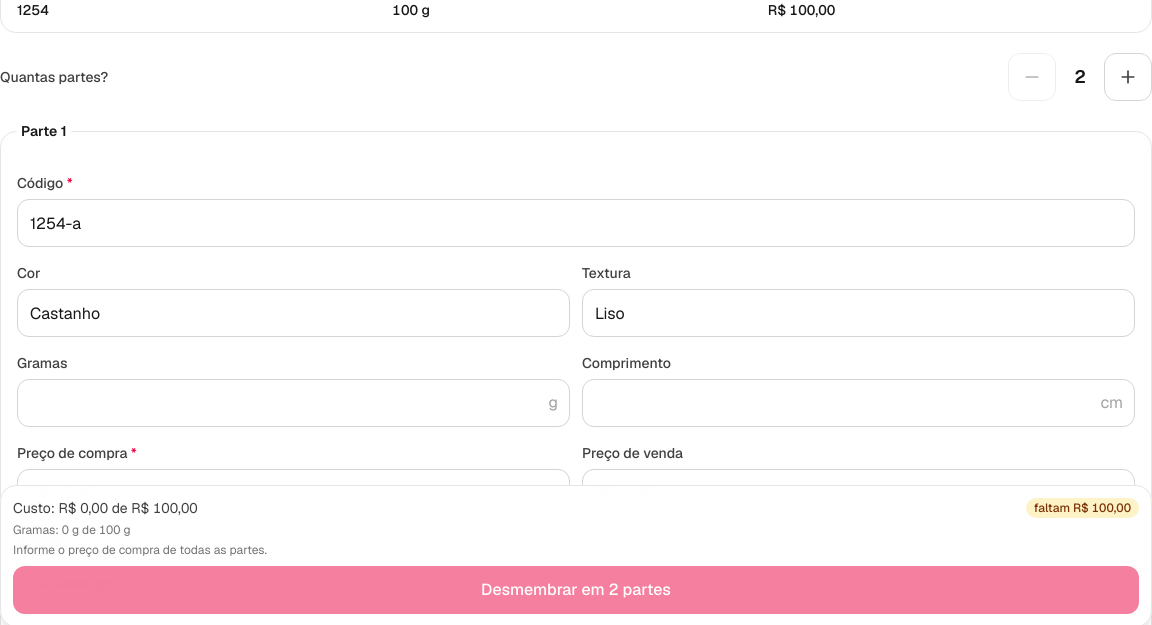
Test: FormularioDesmembrar › soma as gramas só para informar
In the field labelled "Gramas": point(294, 403) 17,379 -> 570,427, type "60"
(page scrolled)
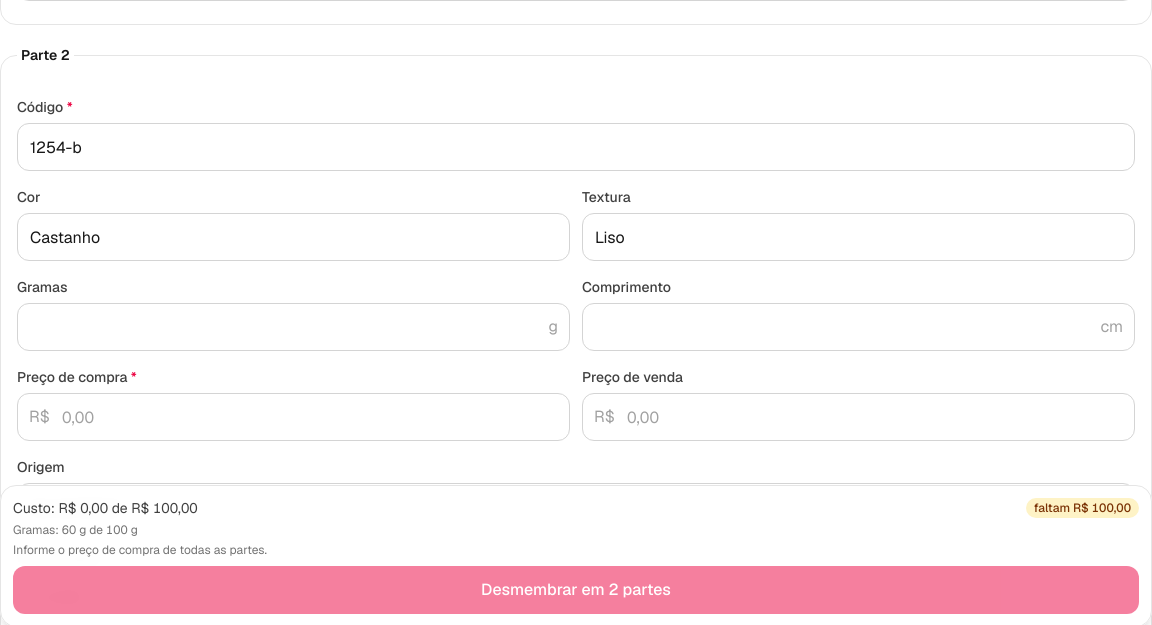
In the field labelled "Gramas": point(294, 327) 17,303 -> 570,351, type "30,5"
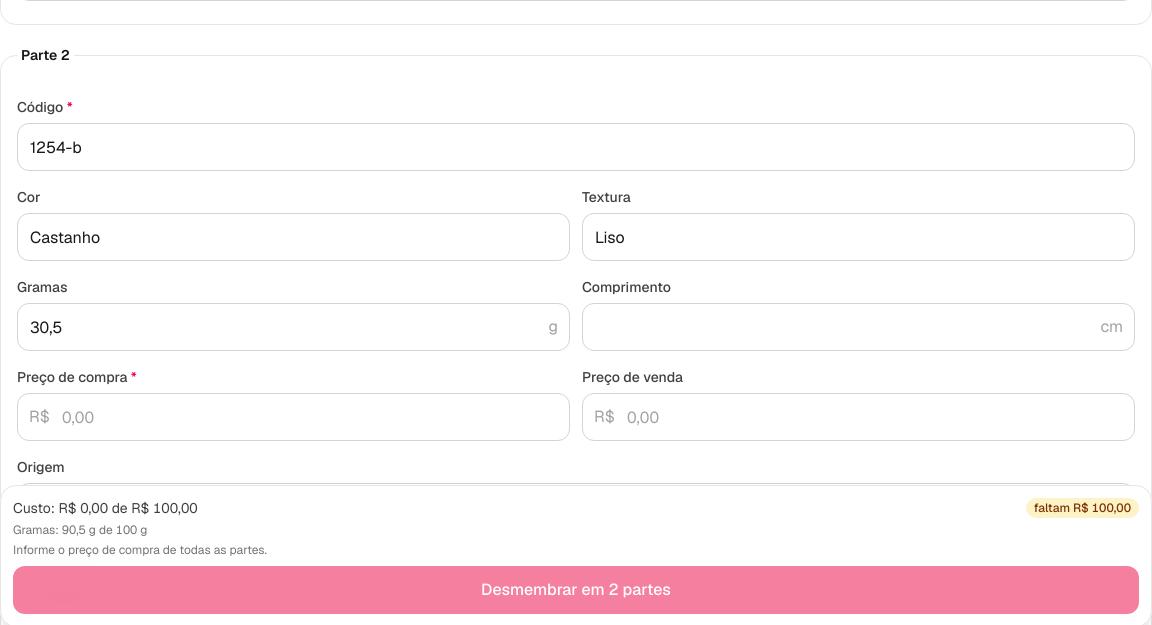
Check: the text "Gramas: 90,5 g de 100 g" is shown, box 13,522 -> 147,538
